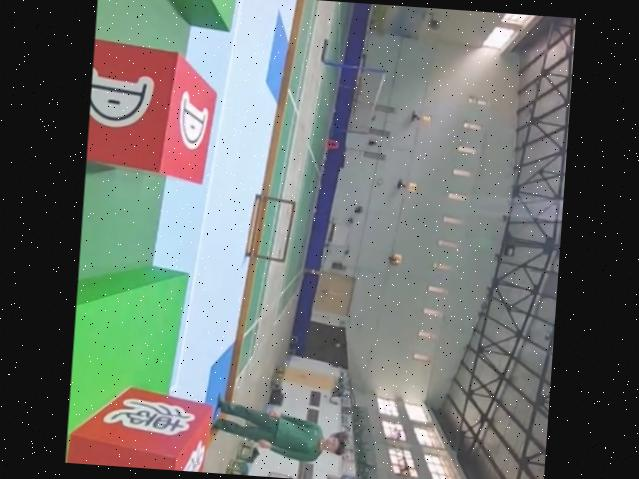R2 Fake: (64, 380, 212, 472)
R2 Real: (84, 38, 220, 184)
